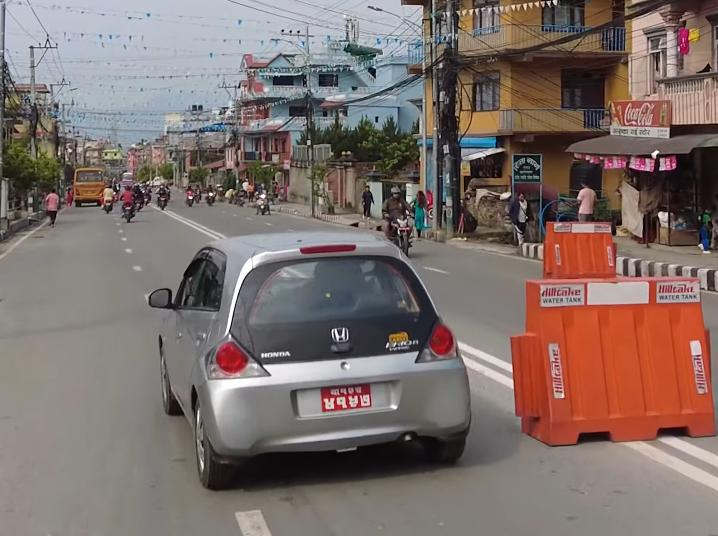bike: (377, 209, 412, 249)
bus: (73, 163, 107, 210)
car: (149, 237, 547, 466)
